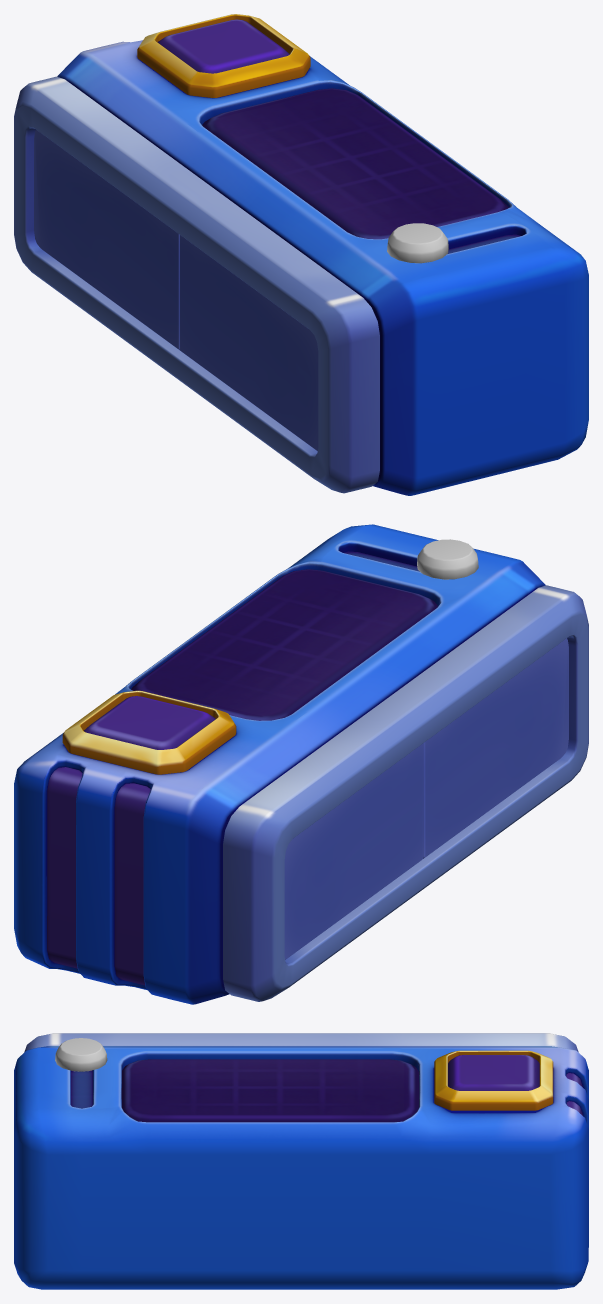
File: Generator.fbx
The picture shows the model from 3 angles, top to bottom: view 1: azimuth 30°, elevation 25°; view 2: azimuth 150°, elevation 25°; view 3: azimuth 270°, elevation 25°; orthographic projection. The views are drawn at different scales.
Parts seen in each view (by area): view 1: Generator, Door, Door.001, Toggle; view 2: Generator, Door.001, Door, Toggle; view 3: Generator, Toggle.
Part boxes in pixels (x1,y1,x2,y2): Generator: (14, 14, 588, 495); Door: (34, 129, 179, 350); Door.001: (180, 235, 318, 450); Toggle: (387, 223, 448, 263); Generator: (14, 524, 588, 1004); Door.001: (423, 638, 568, 858); Door: (284, 744, 422, 959); Toggle: (417, 539, 478, 579); Generator: (14, 1033, 588, 1289); Toggle: (55, 1038, 107, 1071).
Size of the model in its own units: 131 by 111 by 297.
